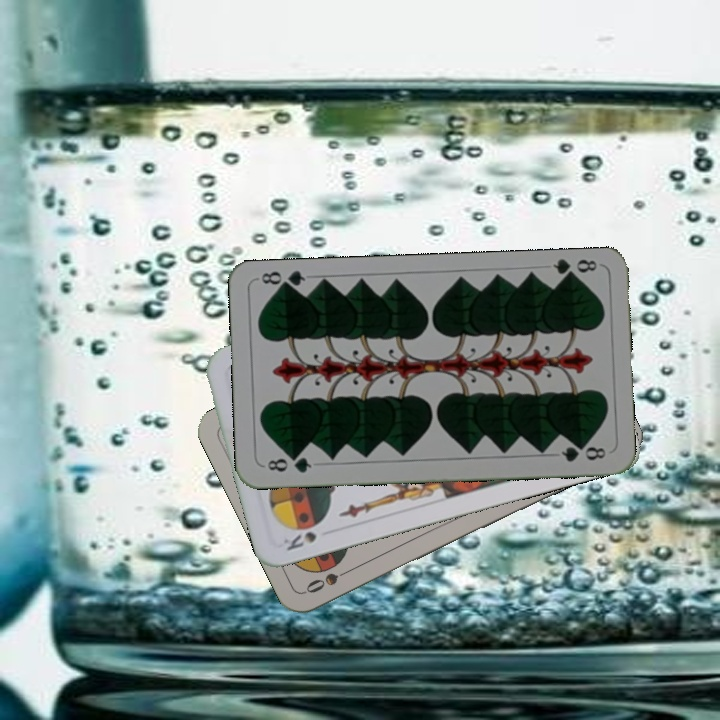G8: (549, 255, 599, 283), (263, 452, 314, 476)
SK: (279, 527, 320, 554)
SO: (301, 563, 357, 596)
